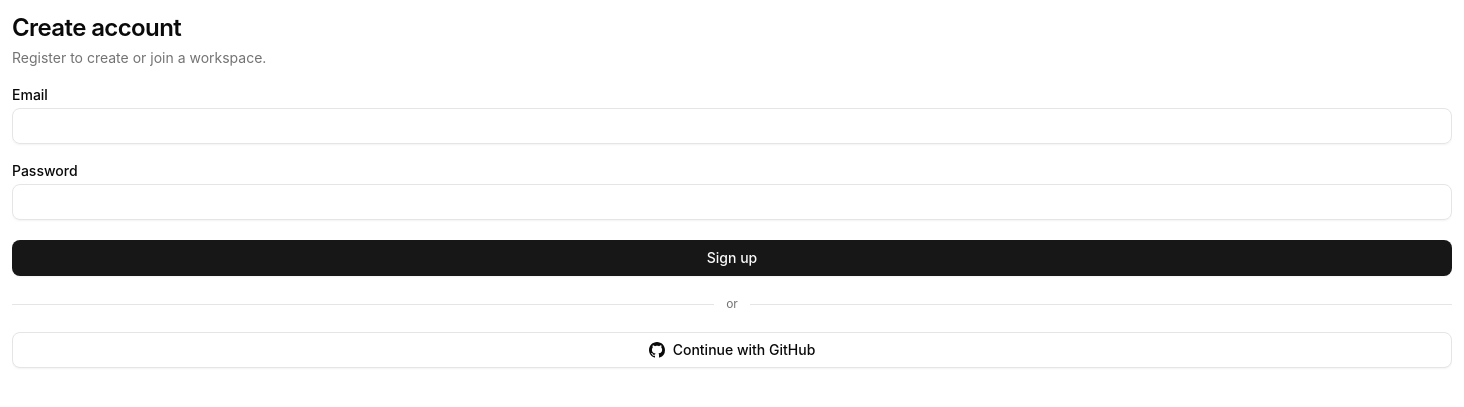
Test: RegisterForm › rejects a password shorter than 8 characters
The image size is (1464, 407).
Type "ada@example.com" into the field labelled "Email" at (732,126), box [12,108,1452,144]
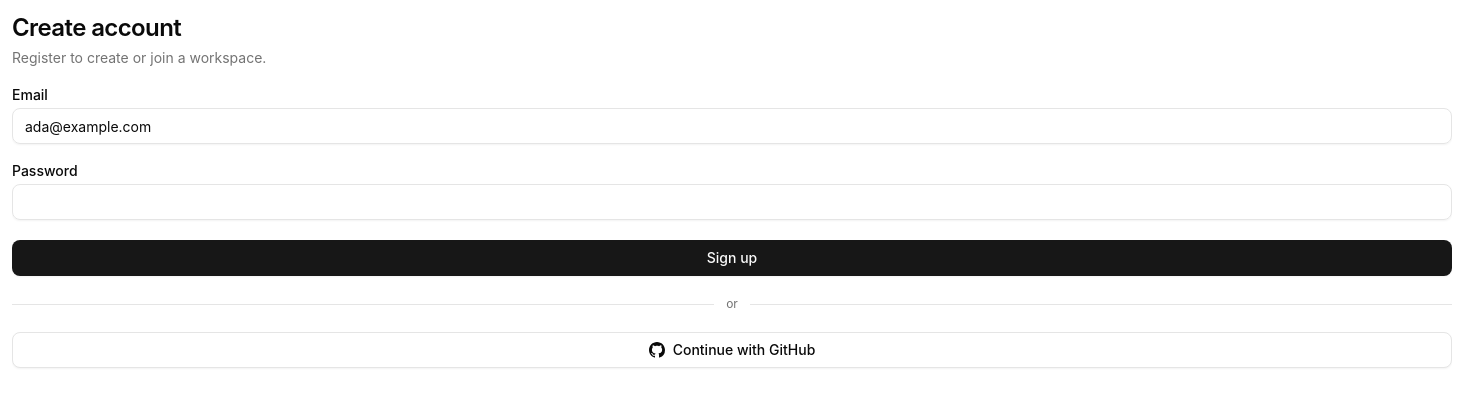
Type "short" into the password field labelled "Password" at (732,202), box [12,184,1452,220]
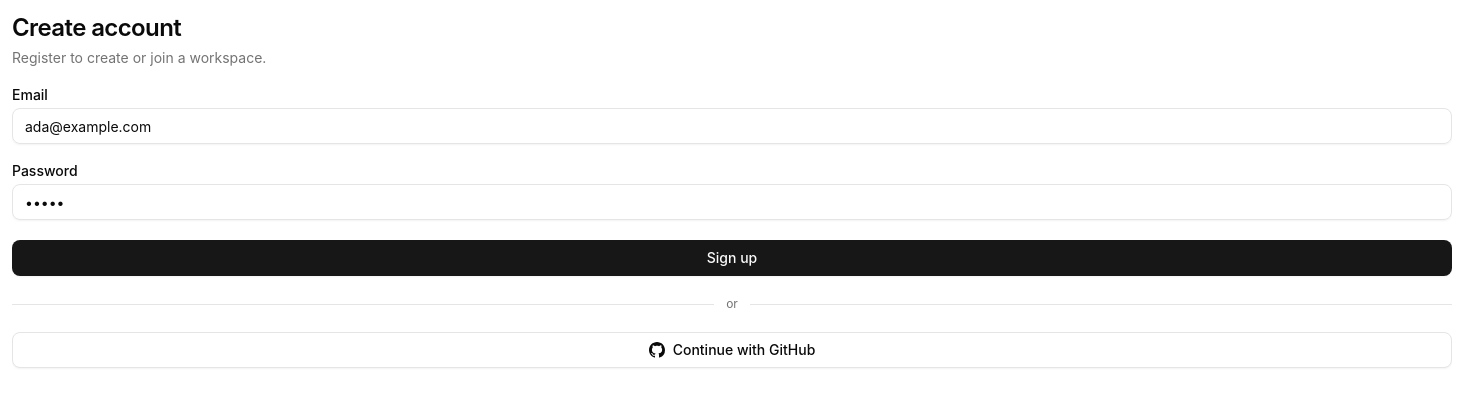
Click the button "Sign up" at (732,258), box [12,240,1452,276]
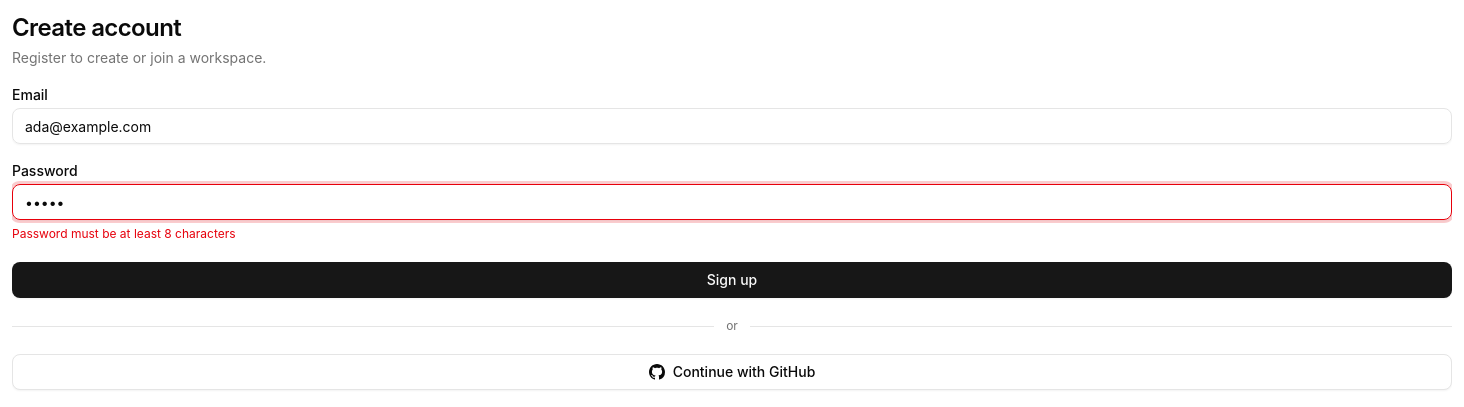
Now the text "Password must be at least 8 characters" is shown, box [12,226,236,241]
